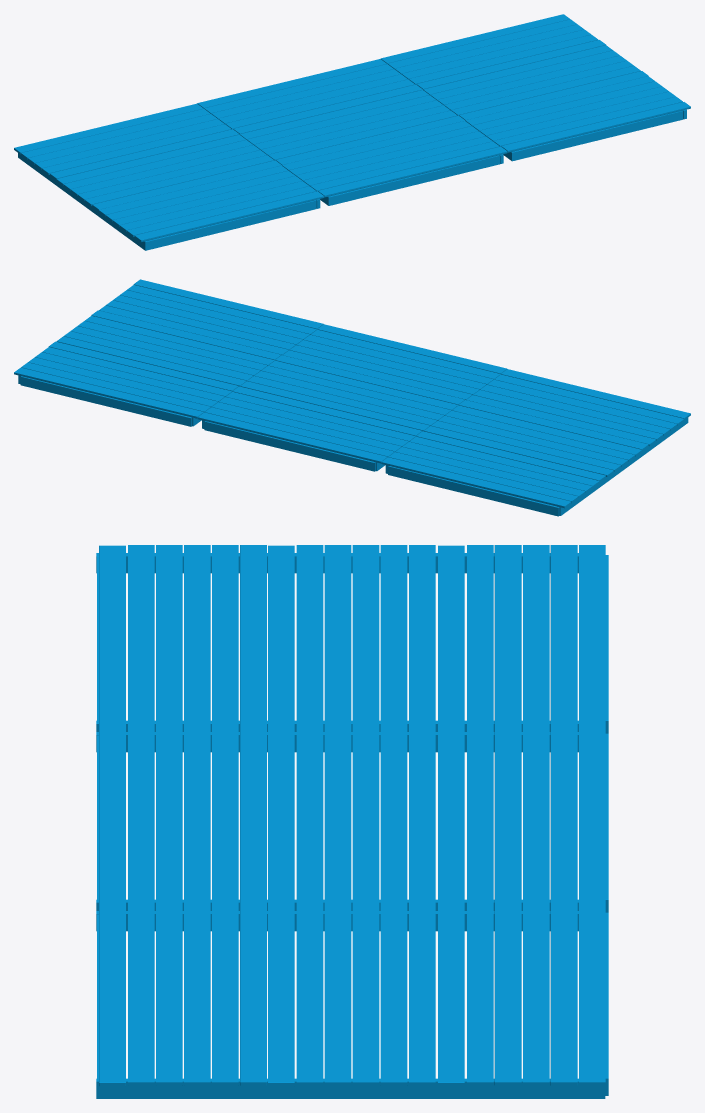
The model's file is Podium_Wood_01.fbx.
3 views of the same model, one above another, from view 1: azimuth 30°, elevation 25°; view 2: azimuth 150°, elevation 25°; view 3: azimuth 270°, elevation 25° (orthographic). The views are drawn at different scales.
Visible parts, largest first — view 1: Podium_Wood_01; view 2: Podium_Wood_01; view 3: Podium_Wood_01.
Boxes of the visible parts, left/top/right/bottom form: Podium_Wood_01: left=14, top=14, right=690, bottom=250; Podium_Wood_01: left=14, top=279, right=690, bottom=516; Podium_Wood_01: left=96, top=545, right=608, bottom=1098.
Size of the model in its own units: 1792 by 34 by 722.
